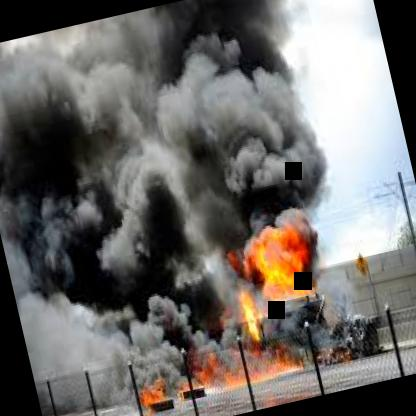fire: (229, 200, 362, 380), (0, 51, 139, 222), (0, 199, 166, 332), (176, 82, 298, 224)
